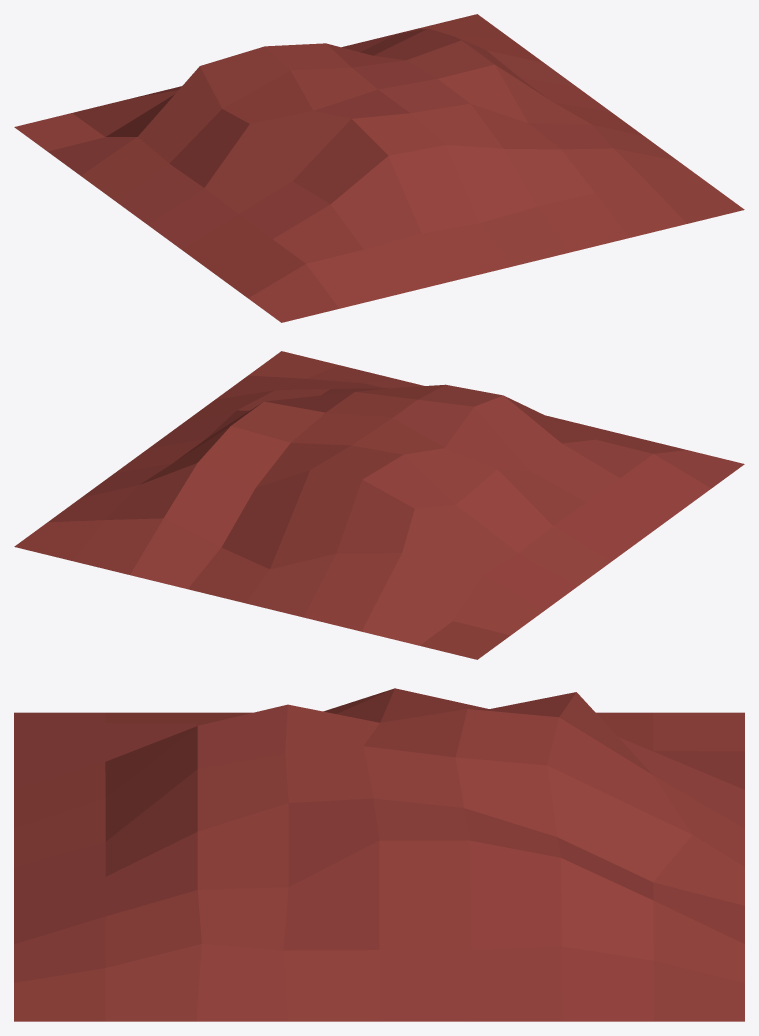
The model's file is Terrain_16_Red.fbx.
3 views of the same model, one above another, from view 1: azimuth 30°, elevation 25°; view 2: azimuth 150°, elevation 25°; view 3: azimuth 270°, elevation 25° (orthographic). The views are drawn at different scales.
Parts seen in each view (by area): view 1: Terrain_16_Red; view 2: Terrain_16_Red; view 3: Terrain_16_Red.
Boxes of the visible parts, x1,y1,x2,y2 form: Terrain_16_Red: [14, 14, 744, 322]; Terrain_16_Red: [14, 351, 744, 659]; Terrain_16_Red: [14, 688, 744, 1021].
Size of the model in its own units: 7000 by 1288 by 7000.
